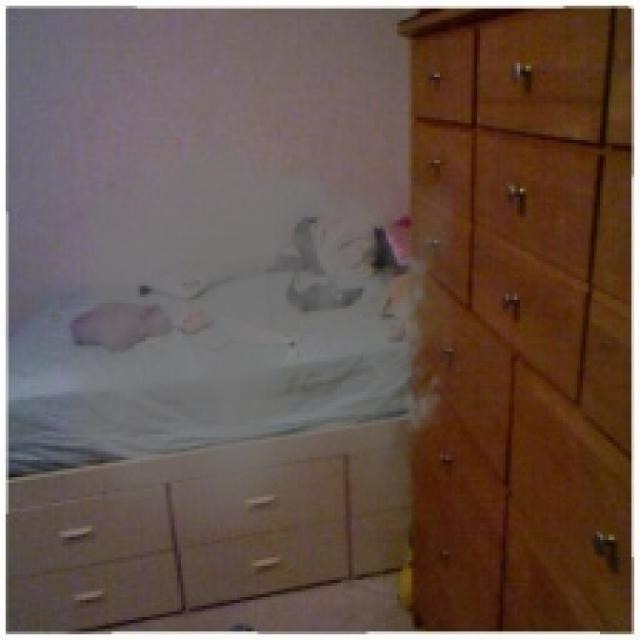Smoke: (59, 117, 454, 529)
